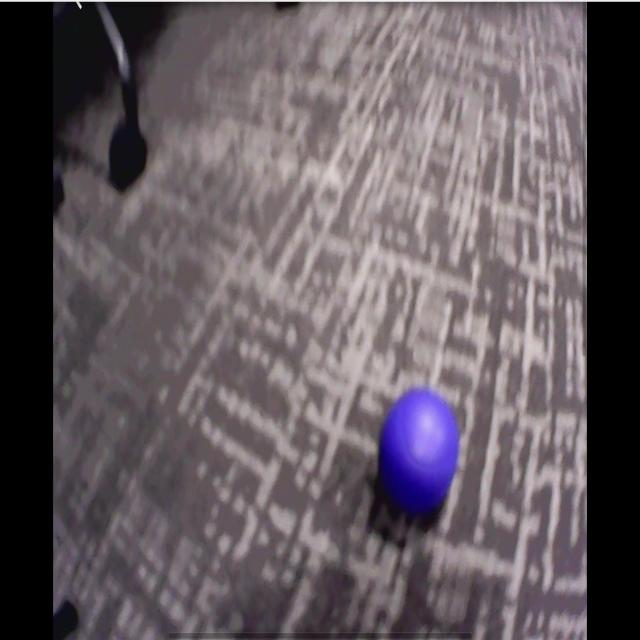ball: (379, 386, 455, 507)
